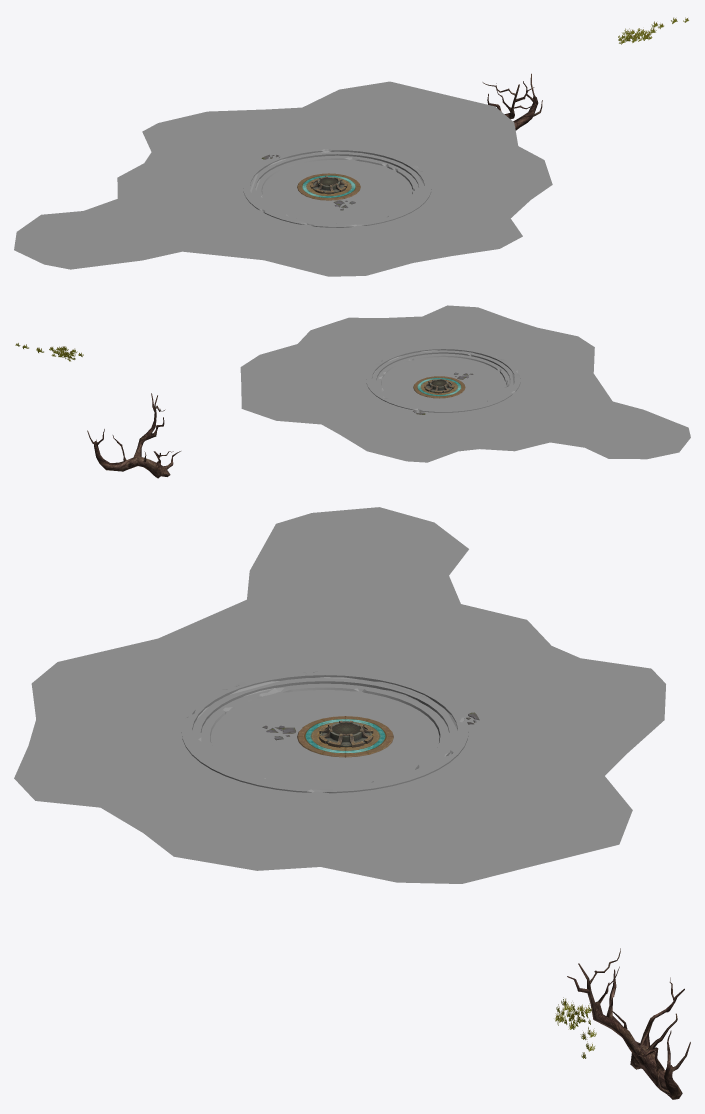
The picture shows the model from 3 angles, top to bottom: view 1: azimuth 30°, elevation 25°; view 2: azimuth 150°, elevation 25°; view 3: azimuth 270°, elevation 25°; orthographic projection. The views are drawn at different scales.
Parts seen in each view (by area): view 1: f_2234_ground_col, f_2234_ground_a, f_2234_ground_b, f_2234_tree, f_2234_grass; view 2: f_2234_ground_col, f_2234_ground_a, f_2234_tree, f_2234_ground_b, f_2234_grass; view 3: f_2234_ground_col, f_2234_ground_a, f_2234_tree, f_2234_ground_b.
Boxes of the visible parts, x1,y1,x2,y2 form: f_2234_ground_col: [51, 116, 507, 272]; f_2234_ground_a: [14, 81, 552, 276]; f_2234_ground_b: [297, 173, 360, 200]; f_2234_tree: [482, 73, 542, 130]; f_2234_grass: [618, 21, 663, 44]; f_2234_ground_col: [298, 319, 649, 448]; f_2234_ground_a: [240, 305, 690, 462]; f_2234_tree: [87, 393, 180, 478]; f_2234_ground_b: [413, 376, 465, 398]; f_2234_grass: [36, 346, 83, 361]; f_2234_ground_col: [49, 542, 578, 841]; f_2234_ground_a: [14, 507, 665, 883]; f_2234_tree: [567, 948, 690, 1099]; f_2234_ground_b: [297, 716, 393, 757].
Size of the model in its own units: 2083 by 290 by 1080.
